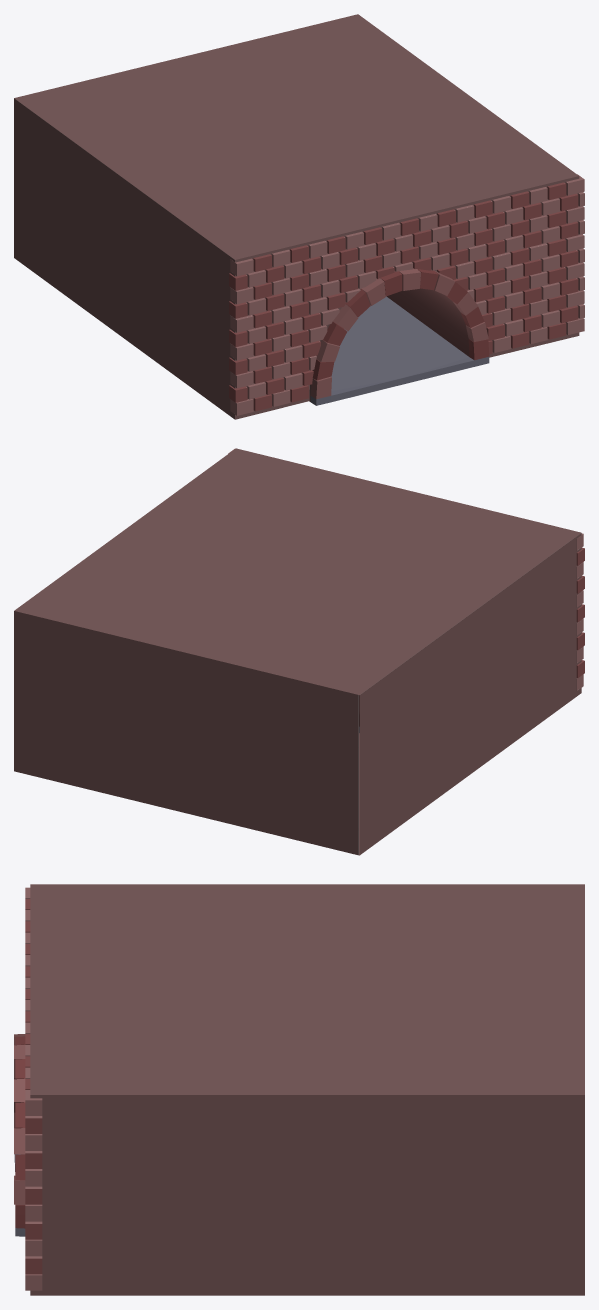
File: tunnel.fbx
3 views of the same model, one above another, from view 1: azimuth 30°, elevation 25°; view 2: azimuth 150°, elevation 25°; view 3: azimuth 270°, elevation 25° (orthographic). The views are drawn at different scales.
Parts seen in each view (by area): view 1: Cube, Cube.012, Circle; view 2: Cube, Cube.012; view 3: Cube, Cube.012, Circle.
Boxes of the visible parts, box(x1,y1,x2,y2) form: Cube: box(14, 14, 579, 419); Cube.012: box(229, 174, 584, 415); Circle: box(309, 268, 489, 405); Cube: box(14, 448, 581, 855); Cube.012: box(228, 449, 584, 690); Cube: box(30, 884, 584, 1295); Cube.012: box(25, 887, 42, 1290); Circle: box(14, 1034, 25, 1236).
Bounding box in the file's own units: 2227 × 974 × 2514.
